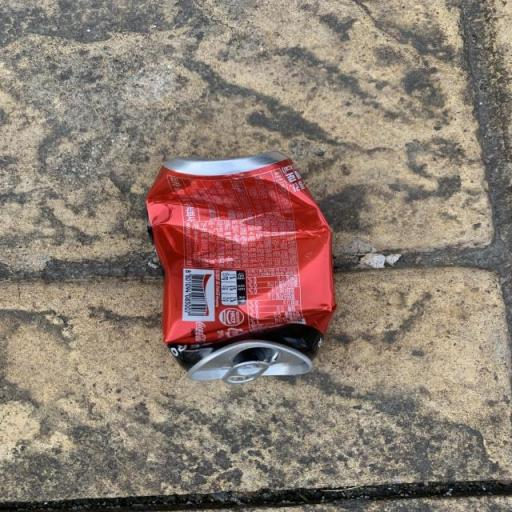metal: (119, 142, 354, 408)
